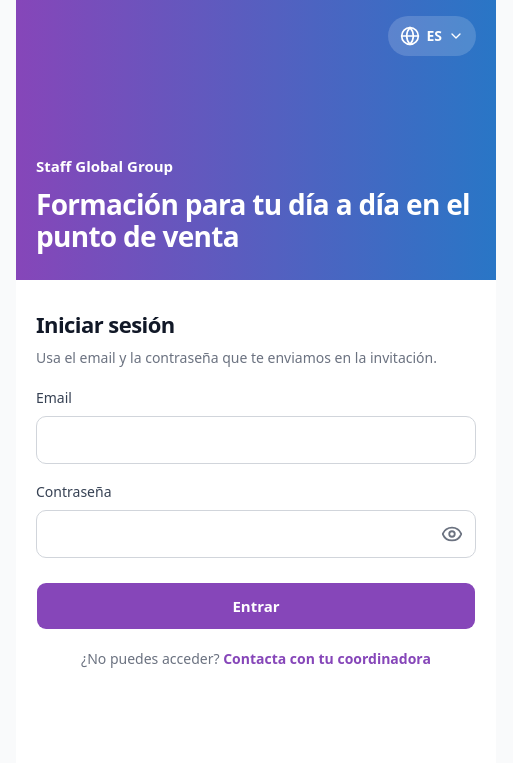
Test: login › credenciales erróneas muestran el error y no entran
Type "lucia.fernandez@email.com" into the field labelled "Email" at x=256, y=440, box [36, 416, 476, 464]
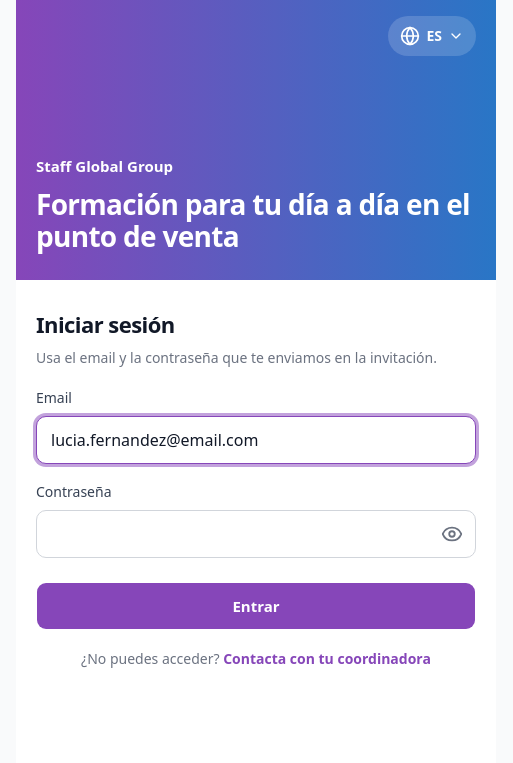
Type "mala" into the password field labelled "Contraseña" at x=256, y=534, box [36, 510, 476, 558]
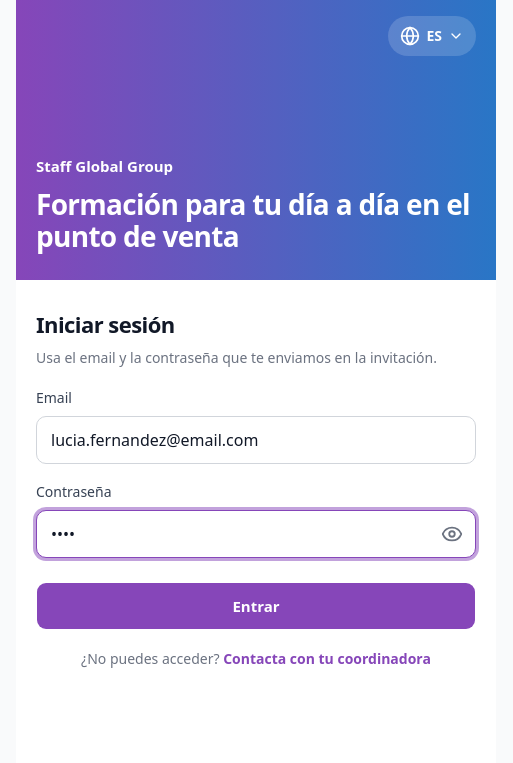
Click the button "Entrar" at x=256, y=606, box [36, 582, 476, 630]
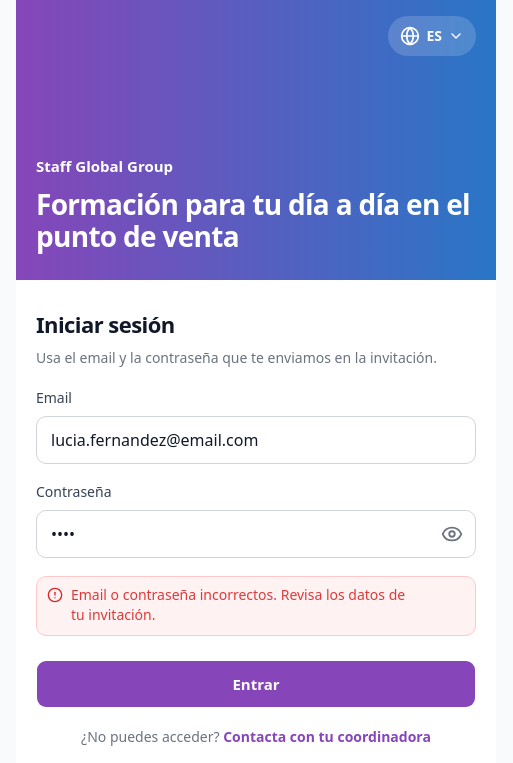
Expected: the text "Email o contraseña incorrectos" is shown, [71, 585, 405, 624]
